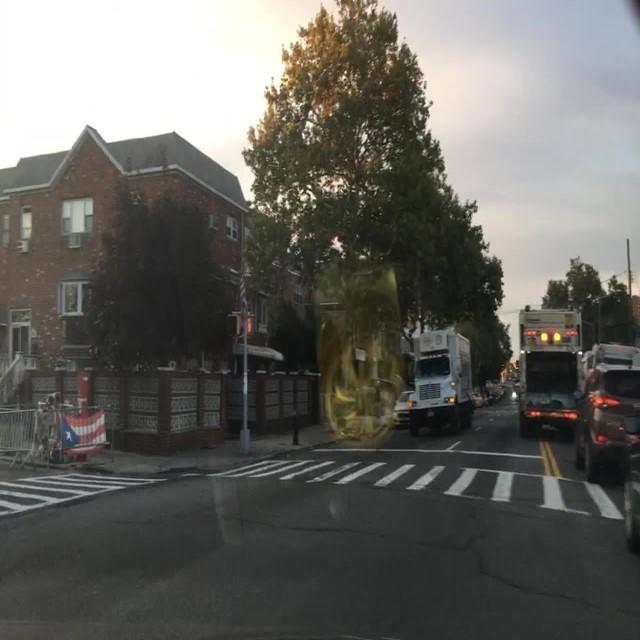normal: (369, 305, 640, 503)
